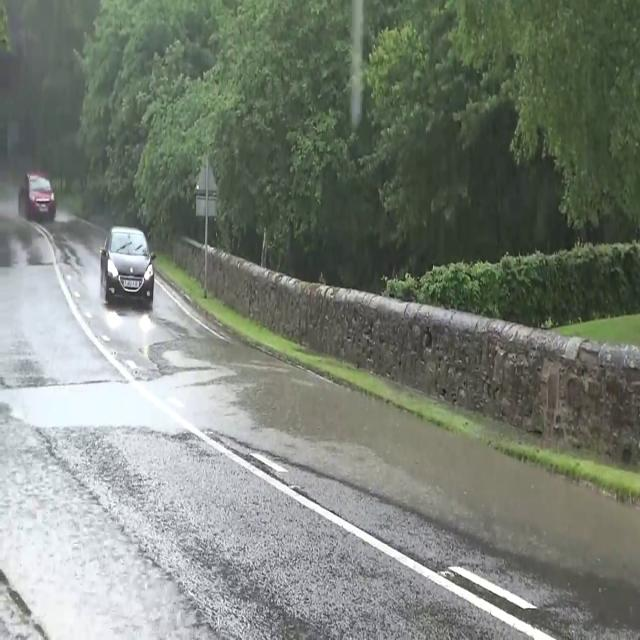license-plate-annotation: (121, 272, 147, 291)
